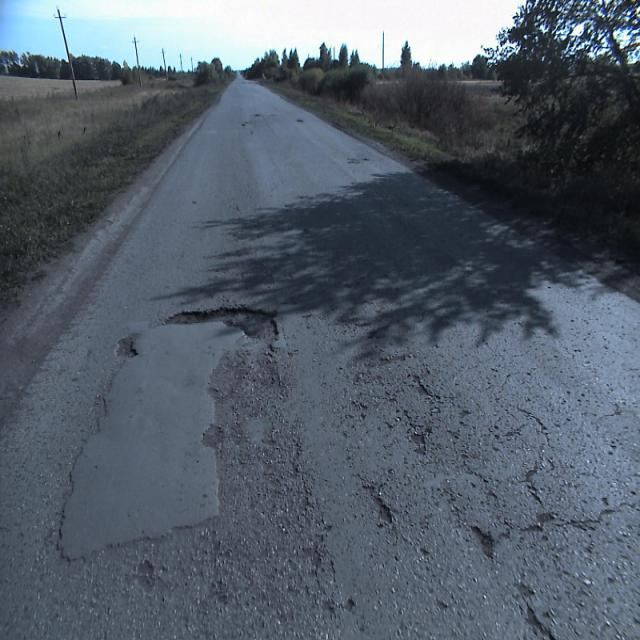road: (0, 70, 639, 639)
